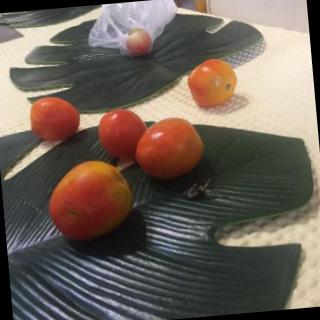Tomat: (41, 150, 140, 250), (126, 99, 212, 188), (179, 53, 257, 128), (93, 97, 154, 164), (22, 88, 89, 146), (122, 26, 170, 58)
